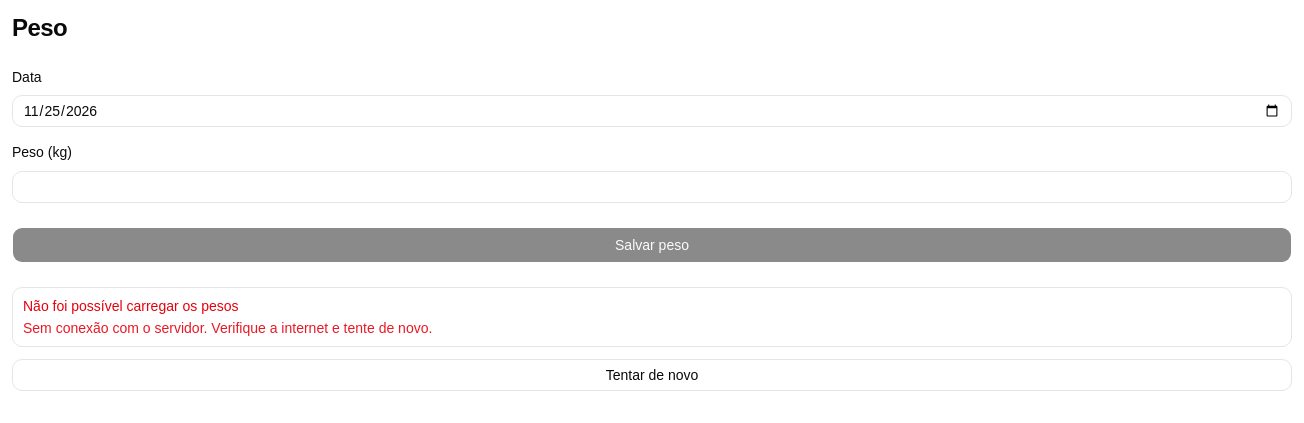
Scenario: WeightPage › offers to try again when the history cannot be loaded
Expected: the text "Não foi possível carregar os pesos" is shown, [23, 298, 239, 314]
Click the button "Tentar de novo": click(652, 374) [12, 358, 1292, 390]
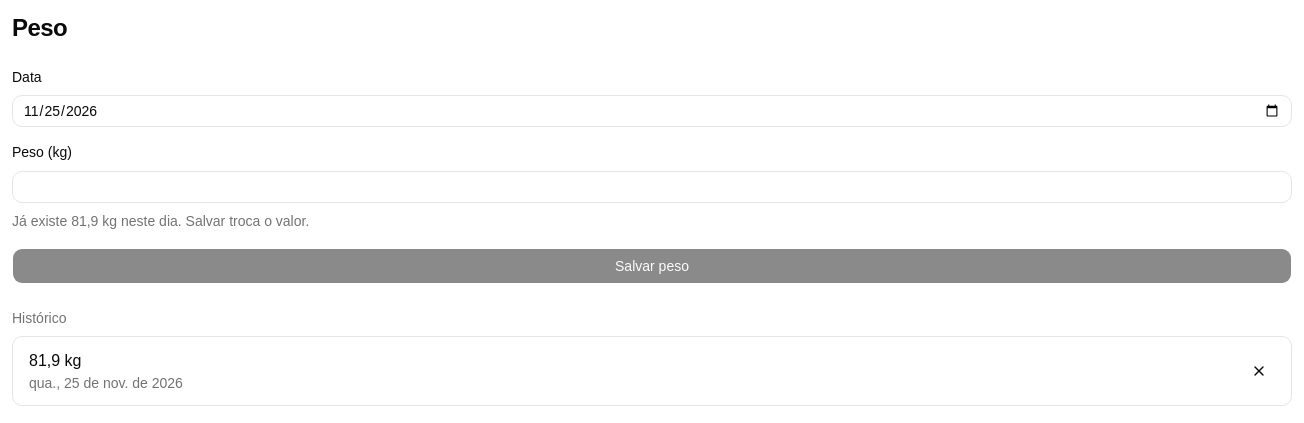
Result: the text "81,9 kg" is shown at [29, 352, 82, 368]
